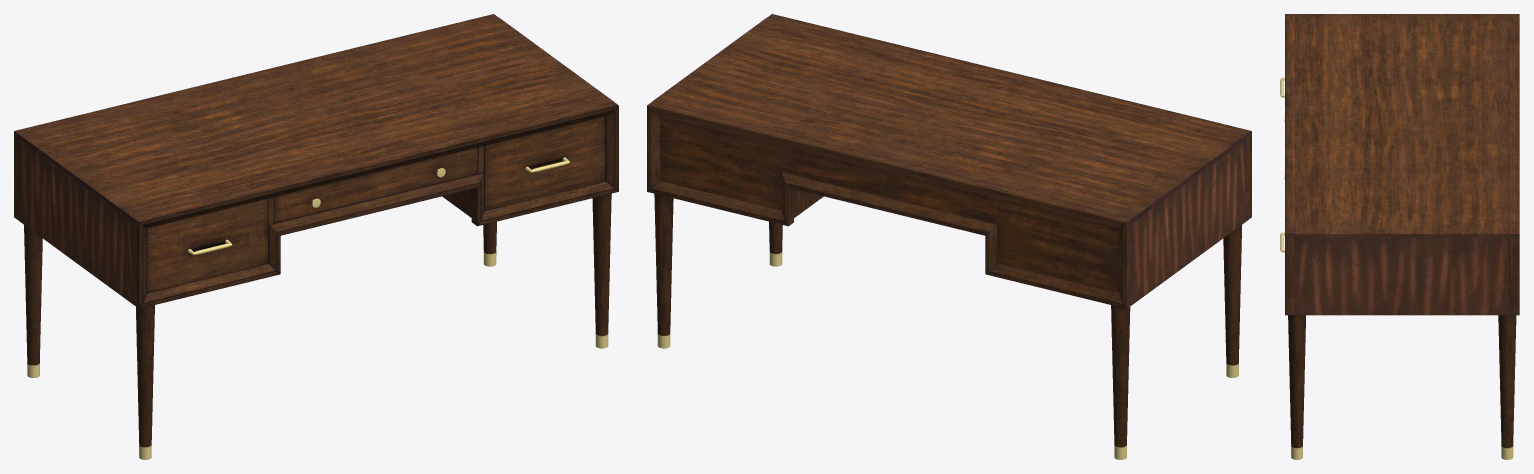
Rendered from rivet-desk.glb.
3 views of the same model, side by side, from view 1: azimuth 30°, elevation 25°; view 2: azimuth 150°, elevation 25°; view 3: azimuth 270°, elevation 25° (orthographic). The views are drawn at different scales.
Visible parts, largest first — view 1: RootNode; view 2: RootNode; view 3: RootNode.
Part boxes in pixels (bbox=[...]): RootNode: bbox=[14, 14, 618, 459]; RootNode: bbox=[647, 14, 1251, 459]; RootNode: bbox=[1280, 14, 1519, 459].
Size of the model in its own units: 1.57 by 0.7617 by 0.7244.
1 material, 1 textured.
